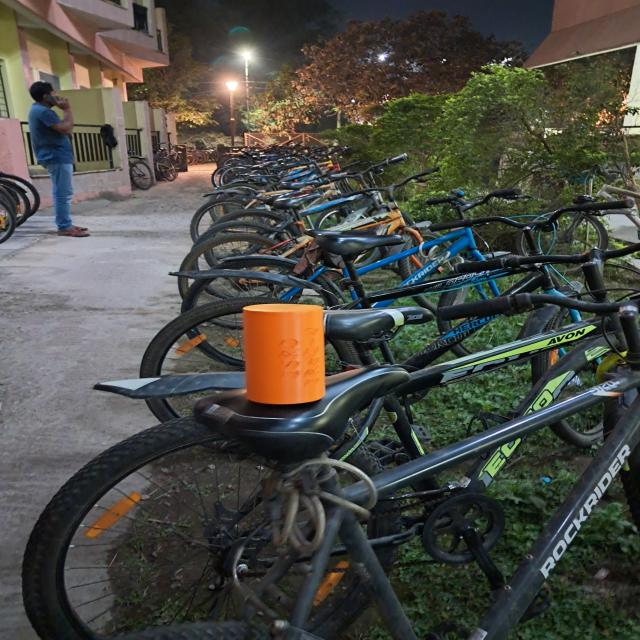Cylinder: (240, 302, 326, 405)
